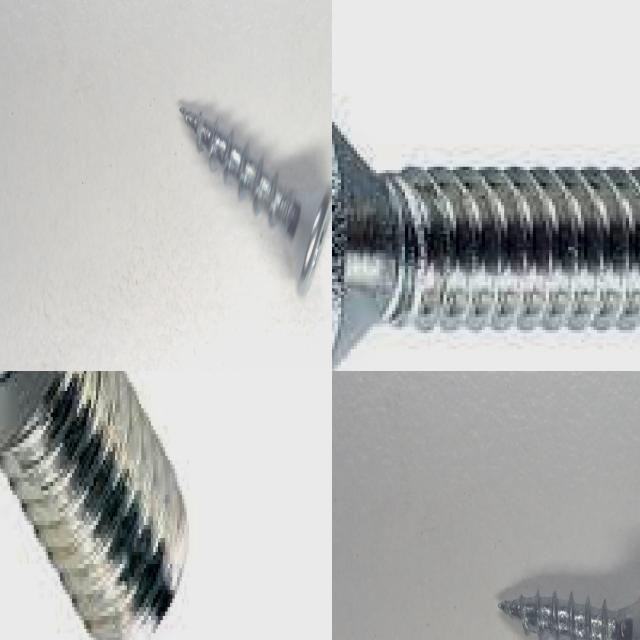Screw: (332, 118, 640, 371), (0, 371, 194, 640), (180, 106, 332, 295), (496, 574, 640, 640)
